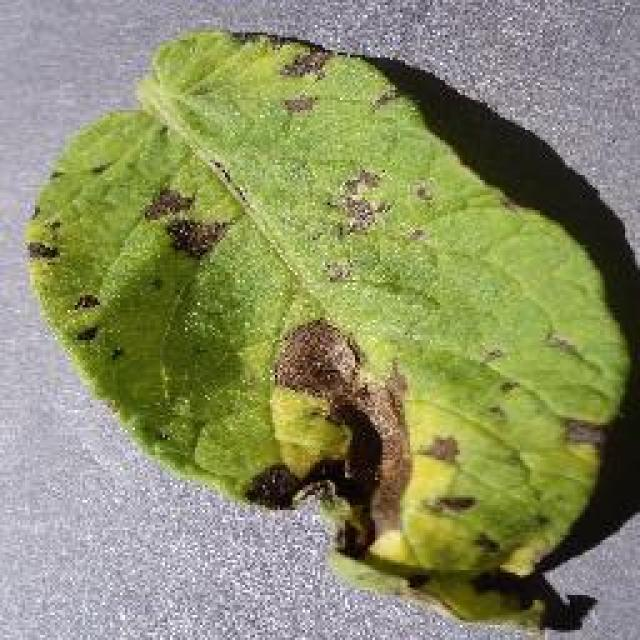Potato___Early_blight: (20, 20, 635, 636)
